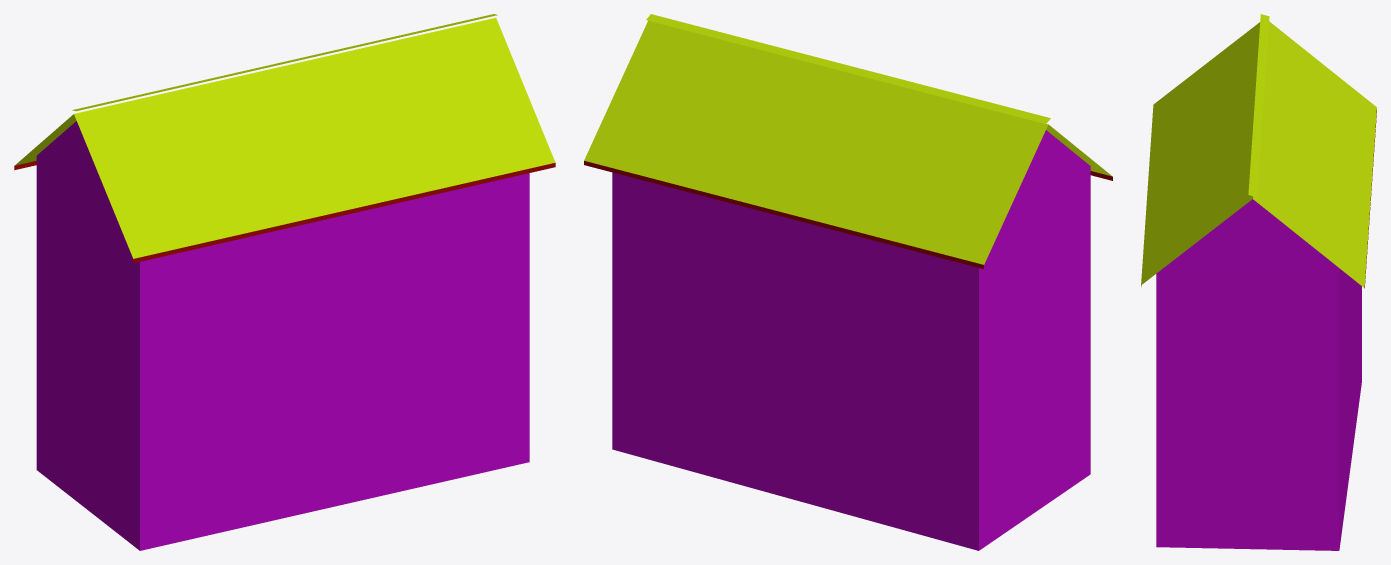
File: bgj_259.glb
3 renders of one model, left to right at view 1: azimuth 30°, elevation 25°; view 2: azimuth 150°, elevation 25°; view 3: azimuth 270°, elevation 25°, orthographic. The views are drawn at different scales.
Visible parts, largest first — view 1: bgj_259; view 2: bgj_259; view 3: bgj_259.
Boxes of the visible parts, left/top/right/bottom form: bgj_259: left=14, top=14, right=555, bottom=550; bgj_259: left=584, top=14, right=1112, bottom=550; bgj_259: left=1141, top=14, right=1376, bottom=550.
Size of the model in its own units: 11.86 by 10.87 by 6.44.
